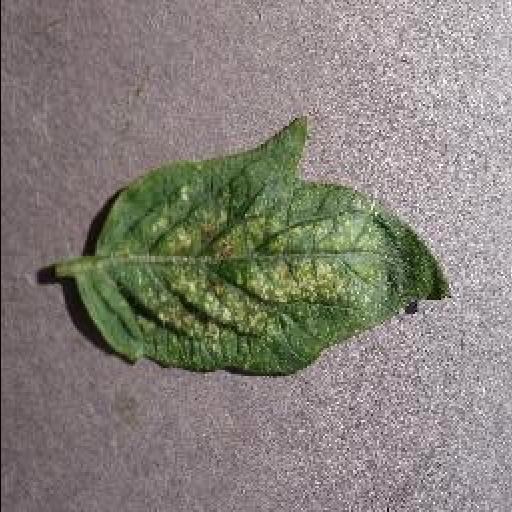disease_tomato: (78, 114, 454, 374)
